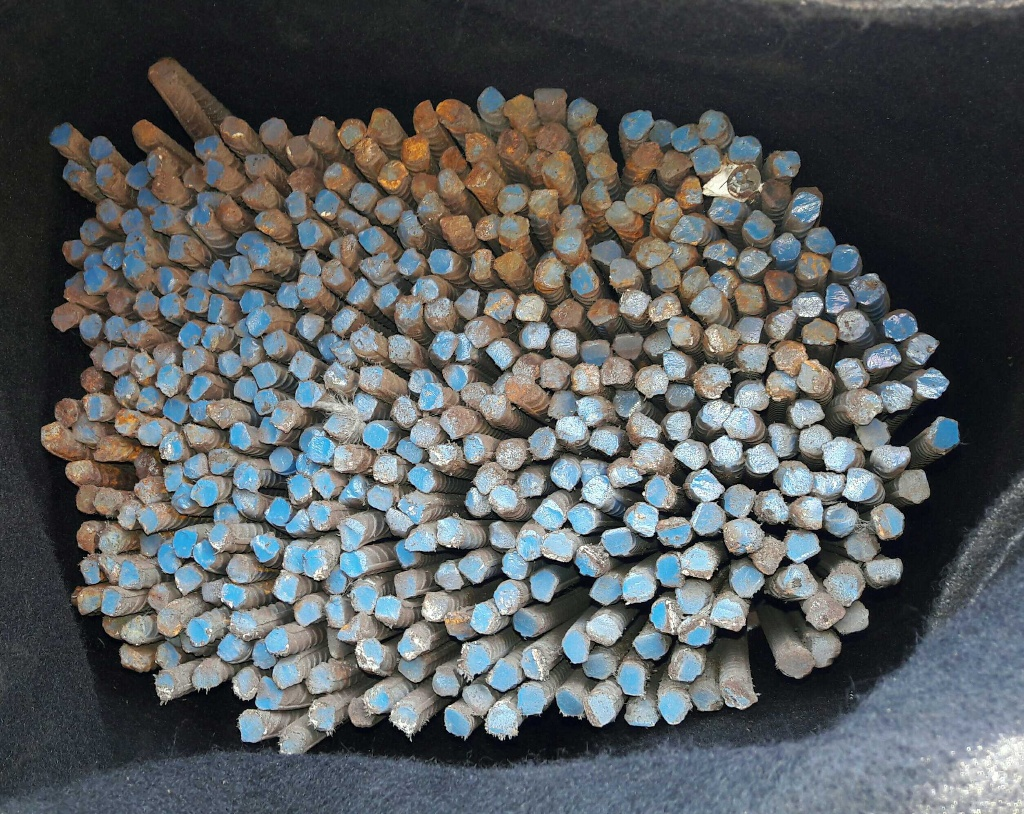dipstick: (822, 562, 865, 603), (723, 518, 764, 555), (694, 364, 731, 399), (773, 340, 808, 375), (675, 579, 711, 613), (821, 437, 857, 471), (778, 460, 812, 496), (847, 389, 881, 425), (575, 543, 609, 578), (632, 441, 667, 475), (834, 600, 868, 635), (809, 598, 845, 631), (855, 418, 891, 451), (634, 238, 673, 268), (782, 563, 817, 596), (782, 530, 820, 560), (777, 648, 815, 678), (711, 599, 745, 632), (806, 635, 841, 667), (608, 457, 644, 488), (753, 538, 784, 574), (624, 503, 657, 536), (824, 503, 857, 536), (681, 544, 713, 578), (871, 504, 903, 538), (767, 423, 798, 458), (849, 273, 884, 304), (652, 599, 682, 635), (798, 425, 832, 456), (585, 614, 620, 644), (674, 440, 709, 470), (721, 680, 757, 709), (487, 659, 519, 691), (439, 407, 471, 439), (732, 565, 764, 597), (692, 503, 724, 535), (798, 360, 830, 392), (691, 470, 723, 502), (755, 490, 787, 522), (669, 650, 702, 681), (764, 270, 797, 301), (723, 484, 754, 517), (847, 468, 878, 501), (659, 690, 689, 724), (657, 516, 691, 546), (735, 380, 769, 410), (571, 363, 602, 395), (735, 283, 767, 314), (791, 497, 822, 529), (846, 530, 878, 561), (899, 470, 930, 502), (882, 381, 913, 413), (691, 286, 721, 319), (765, 307, 795, 340), (868, 557, 901, 587), (679, 616, 713, 645), (710, 435, 744, 464), (873, 444, 910, 470), (584, 695, 615, 726), (465, 315, 496, 346), (576, 397, 607, 428), (622, 110, 654, 140), (551, 299, 584, 328), (625, 697, 658, 726), (651, 258, 680, 291), (681, 266, 710, 299), (672, 215, 705, 244), (930, 417, 959, 450), (836, 359, 869, 388), (356, 639, 384, 673), (618, 662, 646, 696), (658, 150, 692, 178), (864, 343, 902, 368), (704, 324, 739, 351), (789, 399, 824, 426), (882, 312, 917, 339), (486, 707, 517, 737), (426, 300, 456, 331), (496, 440, 527, 470), (645, 476, 675, 507), (636, 366, 667, 396), (667, 316, 698, 346), (738, 247, 769, 277), (906, 334, 937, 364), (530, 571, 559, 603), (541, 532, 573, 561), (359, 253, 391, 282), (735, 344, 767, 373), (588, 298, 621, 326), (801, 318, 836, 344), (534, 258, 563, 289), (623, 574, 654, 603), (461, 643, 489, 675), (570, 263, 598, 295), (656, 555, 684, 587), (725, 409, 757, 437), (812, 472, 844, 500), (563, 630, 590, 663), (690, 684, 724, 710), (338, 119, 367, 149), (229, 611, 258, 641), (463, 684, 493, 713), (664, 410, 693, 440), (919, 369, 949, 398), (485, 291, 513, 322), (431, 329, 459, 360), (540, 358, 568, 389), (709, 197, 740, 225), (829, 245, 860, 273), (747, 443, 778, 471), (118, 645, 150, 672), (397, 628, 424, 660), (494, 583, 521, 615), (555, 416, 587, 443), (629, 413, 661, 440), (340, 517, 365, 551), (633, 632, 667, 657), (591, 575, 620, 604), (692, 145, 721, 174), (762, 180, 791, 209), (744, 210, 773, 239), (837, 311, 866, 340), (521, 649, 549, 679), (517, 684, 545, 714), (534, 500, 564, 528), (553, 460, 581, 490), (699, 110, 727, 140), (234, 462, 261, 493), (537, 124, 568, 151), (650, 293, 681, 320), (584, 652, 616, 678), (797, 252, 829, 278), (703, 241, 736, 266), (324, 161, 352, 190), (502, 551, 531, 579), (771, 233, 800, 261), (272, 573, 299, 603), (237, 712, 264, 742), (473, 603, 500, 633), (513, 609, 543, 636), (568, 505, 595, 535), (590, 428, 620, 455), (602, 357, 632, 384), (730, 135, 760, 162), (256, 677, 282, 708), (339, 615, 370, 641), (602, 528, 633, 554), (792, 291, 823, 317), (391, 396, 416, 428), (677, 175, 702, 207), (217, 632, 245, 660), (391, 705, 419, 733), (443, 708, 471, 736), (488, 521, 516, 549), (489, 485, 517, 513), (385, 334, 413, 362), (663, 351, 691, 379), (620, 289, 648, 317), (435, 560, 462, 589), (578, 124, 607, 151), (550, 329, 577, 358), (626, 187, 655, 214), (156, 365, 182, 395), (557, 204, 587, 230), (701, 400, 731, 426), (766, 373, 796, 399), (530, 428, 555, 459), (234, 668, 258, 700), (251, 533, 278, 561), (294, 599, 322, 626), (279, 728, 306, 756), (333, 443, 360, 471), (329, 234, 357, 261), (407, 467, 435, 494), (558, 688, 585, 716), (394, 296, 421, 324), (378, 161, 406, 188), (369, 108, 397, 135), (497, 185, 525, 212), (543, 152, 570, 180), (581, 475, 609, 502), (633, 141, 661, 168), (793, 193, 820, 221), (288, 169, 317, 195), (430, 443, 459, 469), (606, 202, 635, 228), (672, 124, 701, 150), (655, 198, 681, 227), (806, 227, 835, 253), (74, 484, 99, 514), (304, 551, 329, 581), (437, 517, 462, 547), (400, 210, 425, 240), (499, 214, 529, 239), (553, 229, 583, 254), (591, 240, 621, 265), (51, 305, 78, 332), (296, 313, 323, 340), (191, 480, 218, 507), (372, 283, 399, 310), (375, 197, 402, 224), (487, 342, 514, 369), (615, 332, 642, 359), (610, 258, 637, 285), (149, 58, 177, 84), (258, 118, 286, 144), (224, 257, 252, 283), (307, 436, 333, 464), (433, 667, 459, 695), (340, 550, 368, 576), (397, 436, 425, 462), (459, 556, 485, 584), (516, 531, 542, 559), (465, 487, 491, 515), (498, 129, 526, 155), (612, 390, 640, 416), (736, 316, 762, 344), (272, 401, 297, 430), (65, 460, 94, 485), (413, 101, 438, 130), (254, 210, 284, 234), (173, 529, 197, 559), (528, 190, 558, 214), (506, 375, 536, 399), (824, 283, 848, 313), (374, 452, 397, 483), (504, 95, 535, 118), (665, 385, 696, 408), (175, 567, 201, 594), (324, 567, 350, 594), (362, 422, 388, 449), (351, 183, 377, 210), (402, 135, 429, 161), (438, 169, 465, 195), (440, 365, 467, 391), (410, 418, 437, 444), (651, 119, 677, 146), (207, 401, 235, 426), (192, 663, 220, 688), (351, 584, 376, 612), (376, 596, 401, 624), (396, 540, 421, 568), (463, 133, 488, 161), (439, 147, 467, 172), (264, 329, 288, 358), (41, 421, 65, 450), (158, 544, 182, 573), (326, 362, 350, 391), (387, 506, 411, 535), (422, 593, 446, 622), (581, 340, 610, 364), (273, 664, 303, 687), (456, 289, 478, 320), (326, 414, 352, 440), (295, 382, 321, 408), (418, 193, 444, 219), (584, 181, 610, 207), (517, 295, 543, 321), (79, 218, 104, 245), (245, 308, 270, 335), (131, 352, 156, 379), (103, 347, 130, 372), (238, 339, 263, 366), (115, 408, 140, 435), (134, 478, 161, 503), (186, 619, 211, 646), (227, 555, 252, 582), (397, 496, 424, 521), (411, 172, 436, 199), (522, 323, 549, 348), (314, 190, 338, 218), (208, 449, 236, 473), (158, 608, 182, 636), (252, 641, 276, 669), (311, 702, 335, 730), (325, 596, 346, 628), (341, 475, 365, 503), (495, 251, 523, 275), (772, 151, 800, 175), (309, 501, 332, 530), (588, 153, 617, 176), (406, 530, 437, 551), (172, 485, 197, 511), (209, 524, 234, 550), (306, 667, 332, 692), (265, 498, 290, 524), (366, 687, 391, 713), (359, 365, 384, 391), (352, 328, 378, 353), (359, 227, 384, 253), (644, 330, 670, 355), (126, 161, 150, 188), (218, 194, 242, 221), (218, 350, 242, 377), (250, 363, 277, 387), (55, 398, 79, 425), (159, 433, 183, 460), (290, 353, 314, 380), (349, 699, 373, 726), (398, 658, 425, 682), (437, 100, 464, 124), (478, 88, 505, 112), (466, 161, 490, 188), (461, 436, 485, 463), (284, 192, 307, 220), (77, 523, 100, 551), (288, 475, 311, 503), (394, 570, 417, 598), (136, 505, 158, 534), (440, 215, 469, 237), (309, 118, 334, 143), (201, 325, 226, 350), (82, 395, 107, 420), (137, 420, 162, 445), (368, 485, 393, 510), (446, 612, 471, 637), (428, 249, 453, 274), (148, 149, 172, 175), (186, 374, 210, 400), (163, 399, 187, 425), (269, 447, 293, 473), (80, 557, 104, 583), (155, 643, 181, 667), (346, 278, 370, 304), (353, 139, 379, 163), (570, 98, 596, 122), (406, 368, 432, 392), (96, 199, 119, 226), (122, 322, 149, 345), (77, 587, 100, 614), (283, 546, 306, 573), (155, 672, 176, 701), (83, 267, 108, 291), (134, 289, 158, 314), (168, 235, 192, 260), (81, 368, 106, 392), (93, 488, 117, 513), (148, 585, 172, 610), (332, 309, 357, 333), (122, 209, 145, 235), (150, 206, 176, 229), (186, 287, 209, 313), (298, 221, 321, 247), (234, 376, 257, 402), (341, 209, 367, 232), (185, 423, 212, 445), (287, 508, 309, 535), (230, 422, 251, 450), (120, 560, 141, 588), (469, 249, 490, 277), (219, 117, 248, 137), (297, 275, 321, 299), (137, 388, 161, 412), (221, 583, 245, 607), (533, 88, 565, 106), (481, 394, 505, 418), (103, 316, 126, 341), (123, 254, 148, 277), (265, 628, 288, 653), (396, 249, 419, 274), (419, 383, 442, 408), (151, 267, 173, 293), (249, 243, 271, 269), (277, 282, 299, 308), (194, 540, 216, 566), (152, 344, 179, 365), (300, 250, 321, 277), (48, 123, 72, 146), (89, 136, 112, 160), (202, 159, 225, 183), (255, 390, 278, 414), (183, 453, 207, 476), (179, 322, 201, 347), (137, 534, 162, 556), (476, 214, 498, 239), (195, 135, 221, 156), (103, 244, 124, 270), (214, 504, 240, 525), (313, 472, 334, 498), (102, 588, 122, 615), (164, 463, 183, 491), (182, 348, 204, 372), (240, 291, 265, 312), (116, 504, 137, 529), (319, 335, 340, 360), (259, 416, 279, 442), (132, 120, 154, 143), (97, 528, 119, 551), (95, 164, 116, 188), (62, 240, 86, 261), (81, 314, 102, 338), (246, 154, 270, 175), (114, 376, 136, 398), (159, 293, 180, 316), (323, 260, 344, 283), (63, 161, 85, 182), (186, 207, 210, 226), (208, 295, 225, 320), (203, 581, 222, 602), (286, 136, 309, 153)
